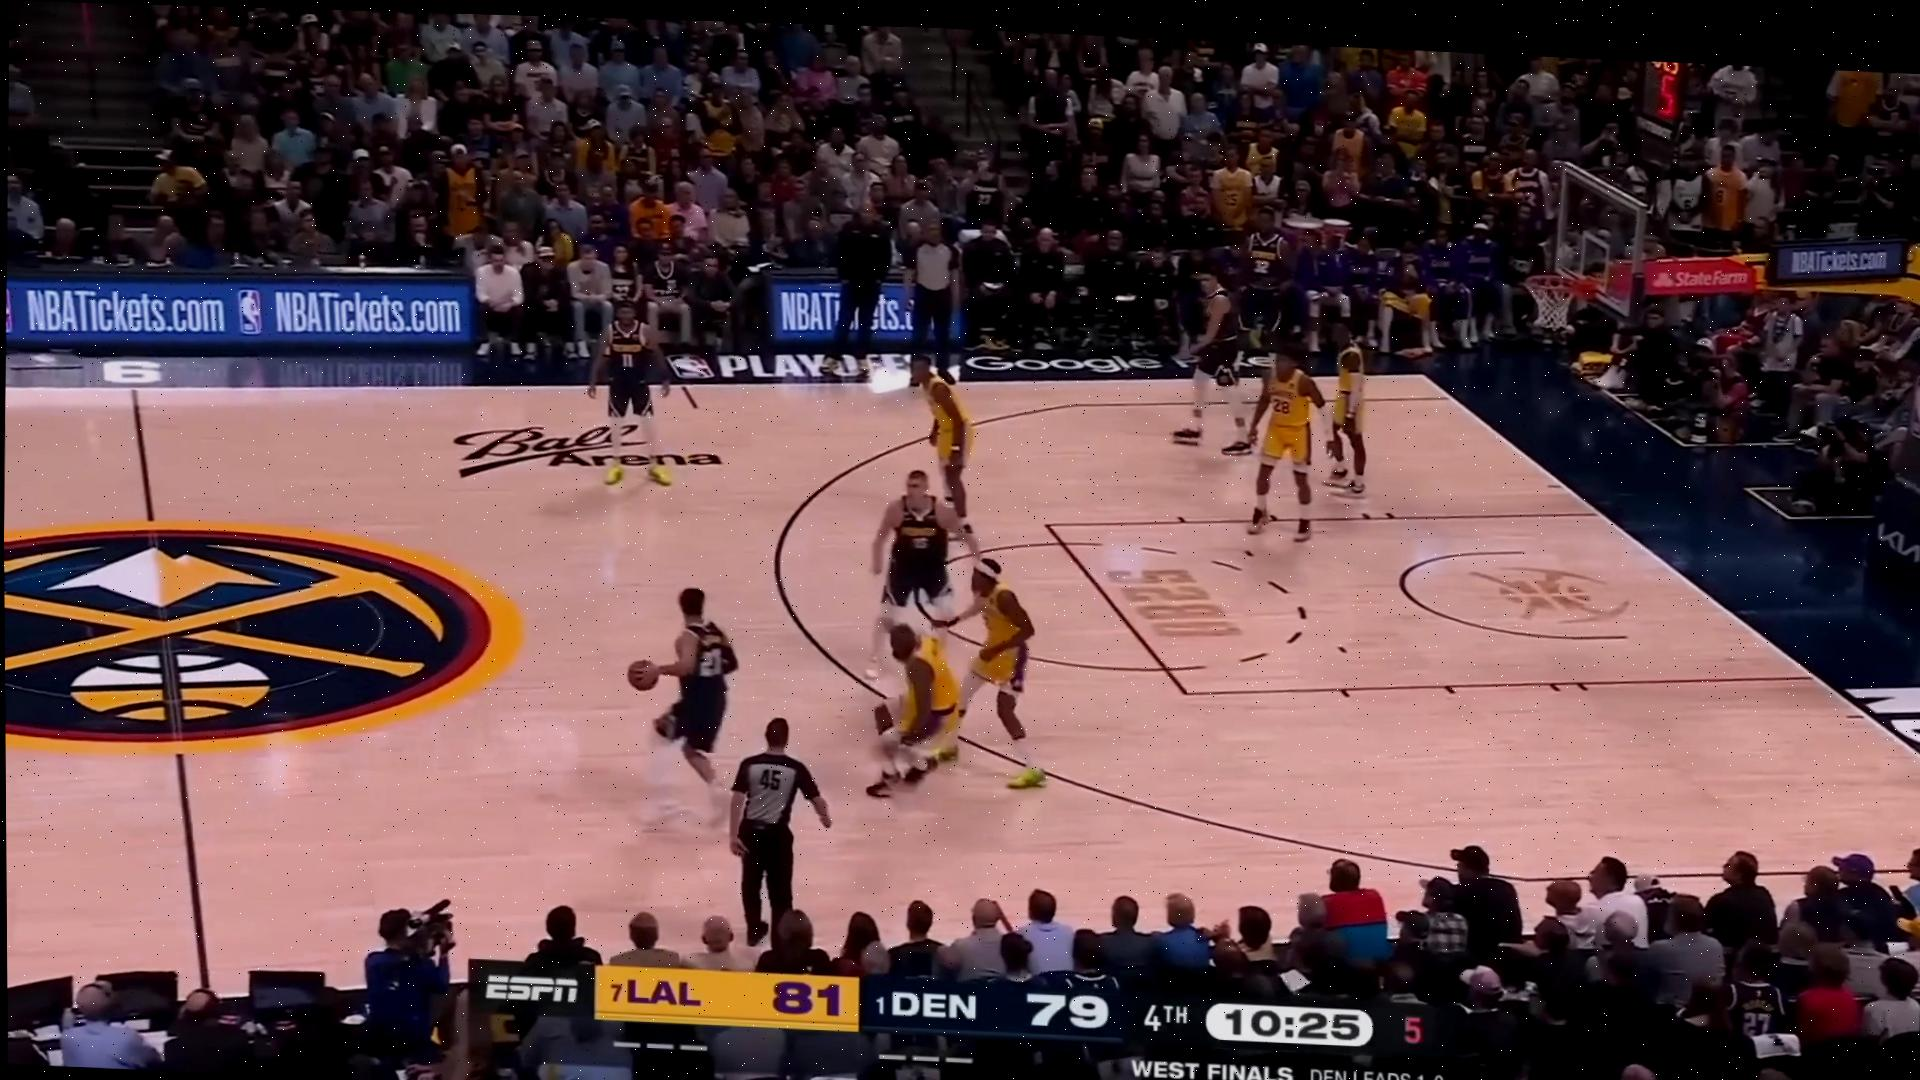foul: (830, 460, 1005, 795)
